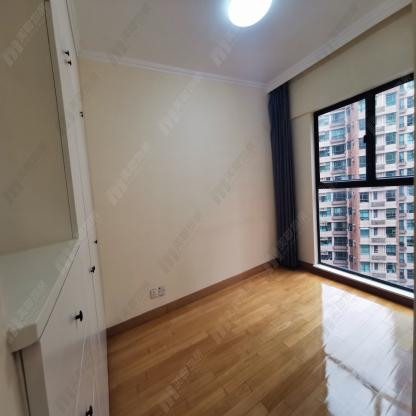Closet: (0, 2, 110, 416)
